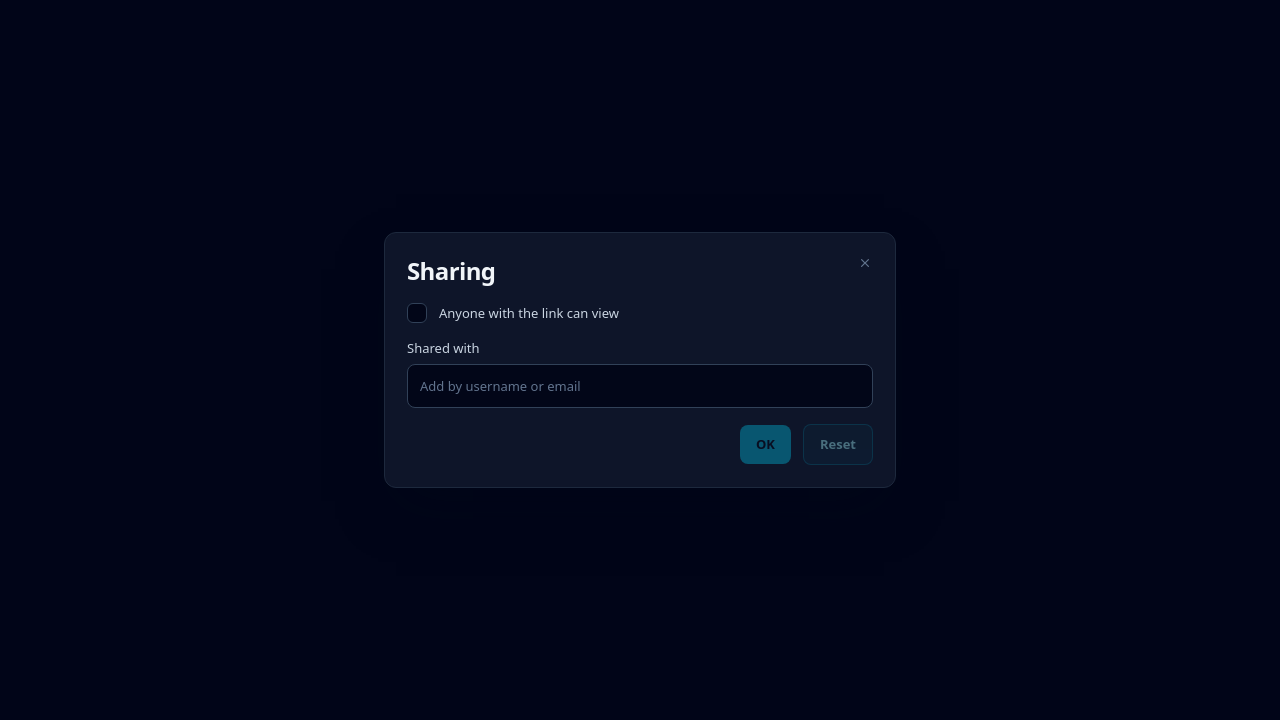
Test: ShareDialog › prompts to discard when dismissed with unsaved changes
The image size is (1280, 720).
Click the checkbox labelled "Anyone with the link can view": (513, 313) [407,303,619,323]
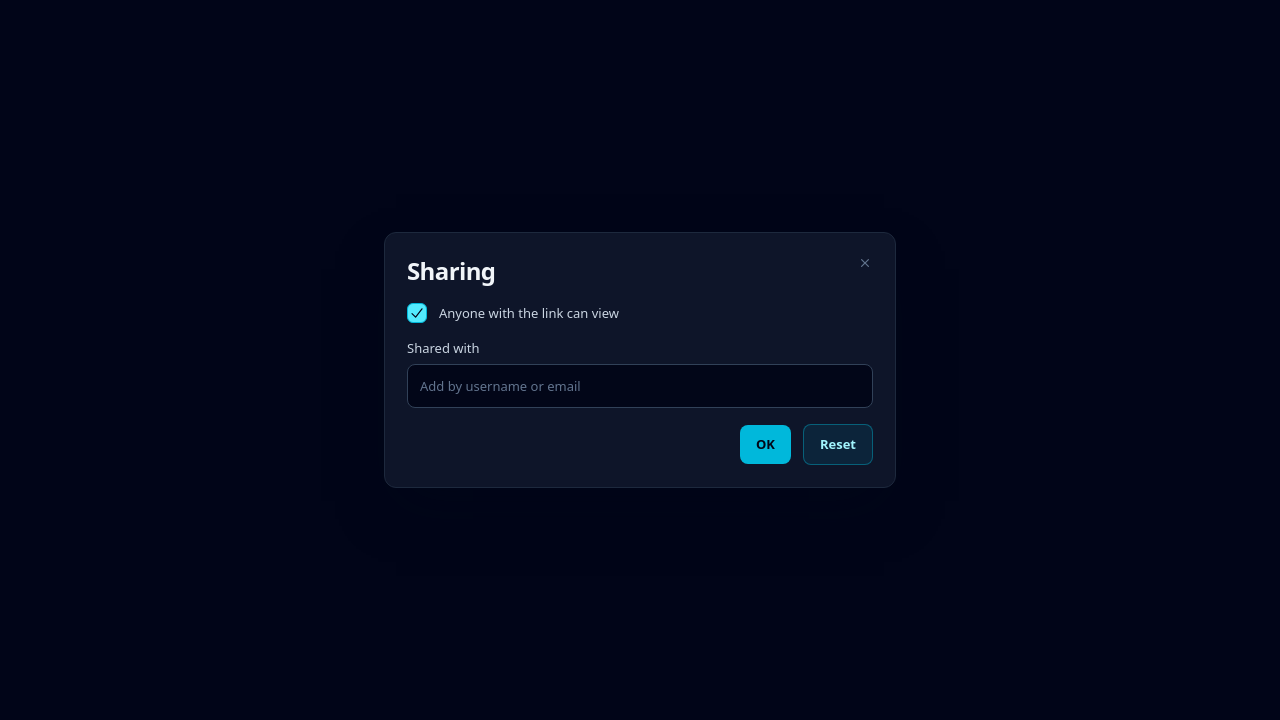
Click the button named "Close dialog" in the row of "Sharing": (865, 263) [851,249,879,277]
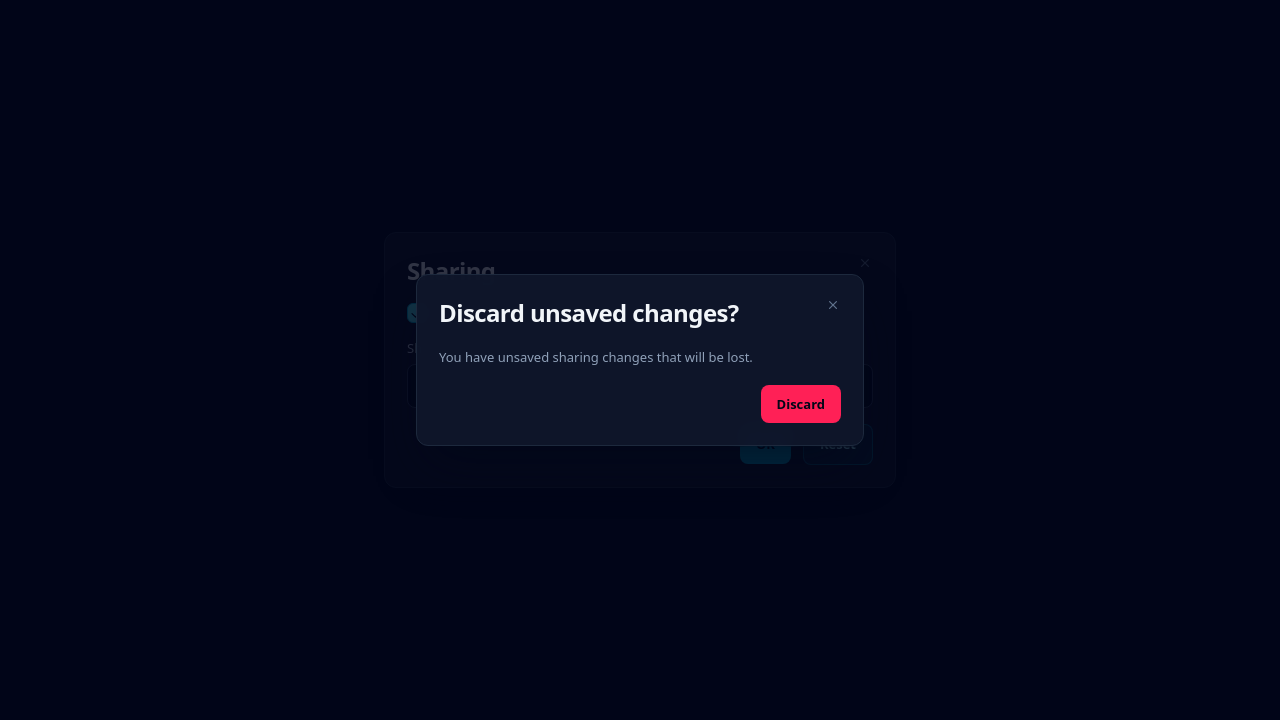
Now the heading "Discard unsaved changes?" is shown, box [439,296,739,329]
